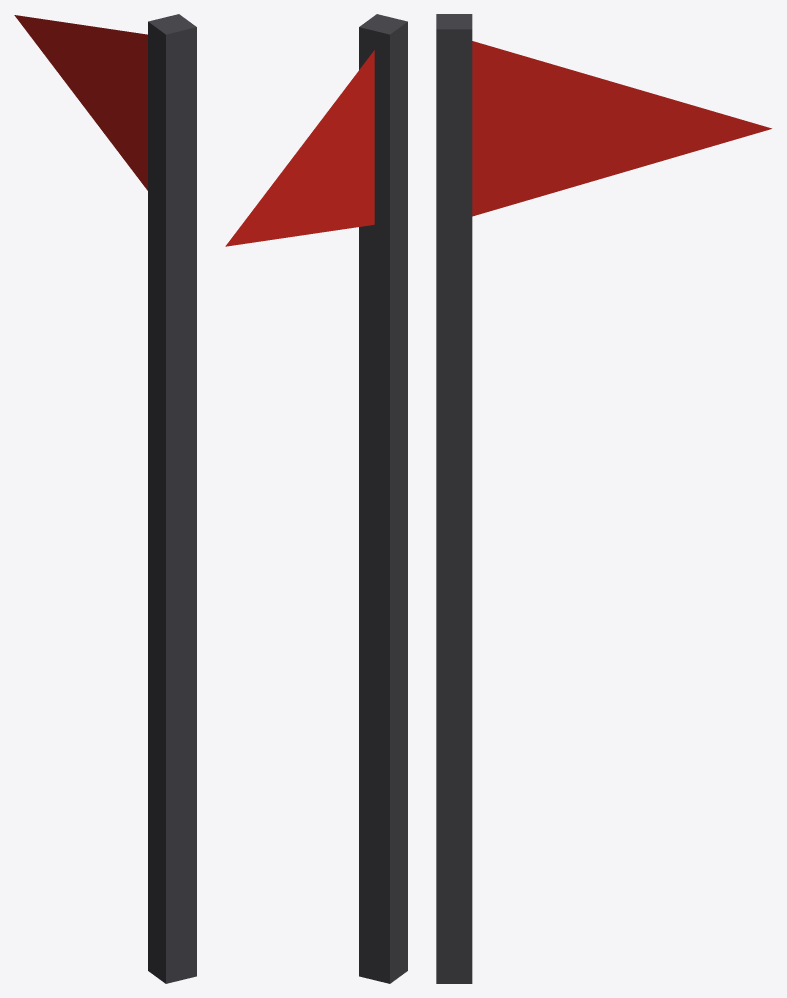
Rendered from bne_golf_flag.dae.
The picture shows the model from 3 angles, left to right: view 1: azimuth 30°, elevation 25°; view 2: azimuth 150°, elevation 25°; view 3: azimuth 270°, elevation 25°; orthographic projection.
Parts seen in each view (by area): view 1: pole, flag; view 2: pole, flag; view 3: pole, flag.
Part boxes in pixels (x1,y1,x2,y2): pole: (148,14,196,983); flag: (14,15,147,190); pole: (359,14,407,983); flag: (225,50,374,246); pole: (436,14,472,983); flag: (472,41,771,216).
Bounding box in the file's own units: 0.07 × 0.655 × 2.05.
